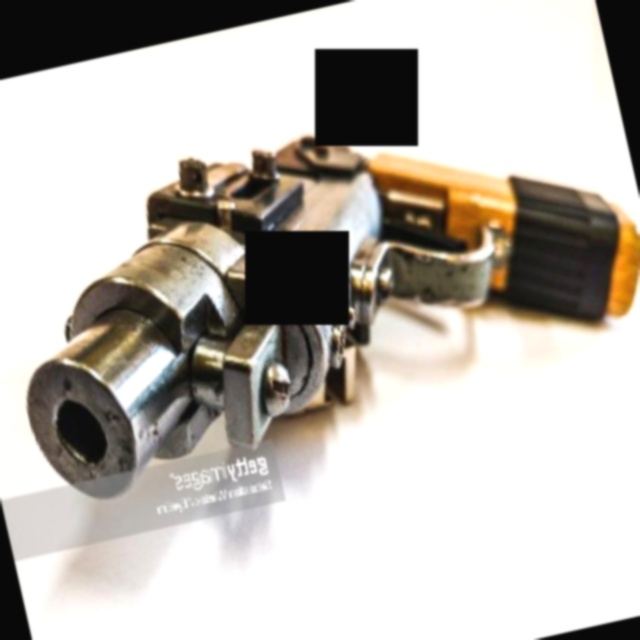gun: (0, 70, 640, 511)
